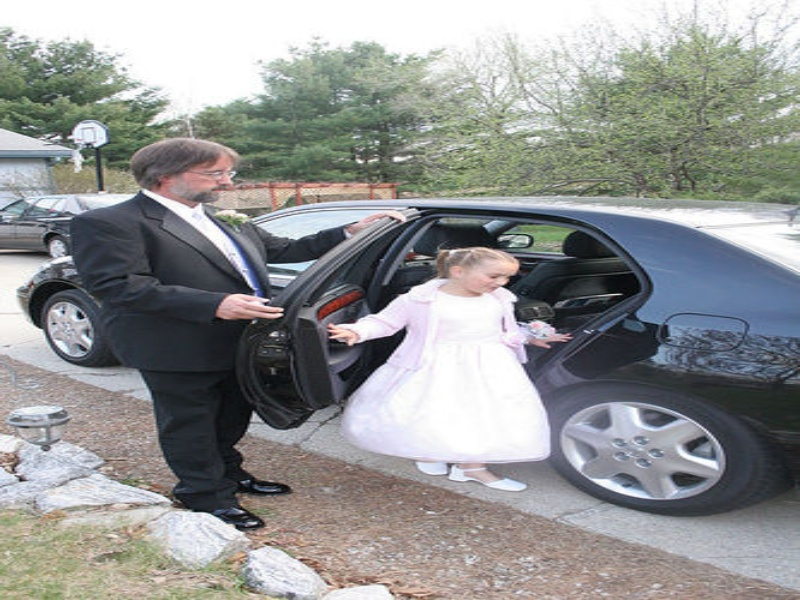car: (15, 197, 800, 516), (1, 194, 135, 258)
person: (71, 137, 293, 529), (329, 245, 573, 491)
